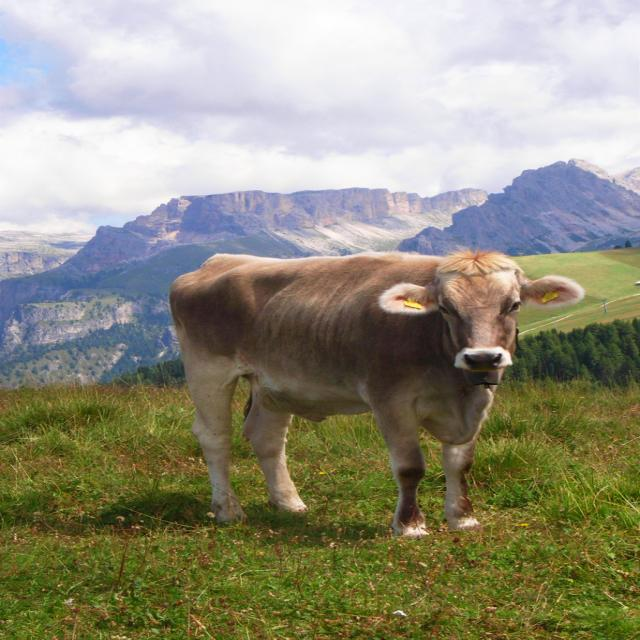Cattle: (169, 247, 586, 539)
